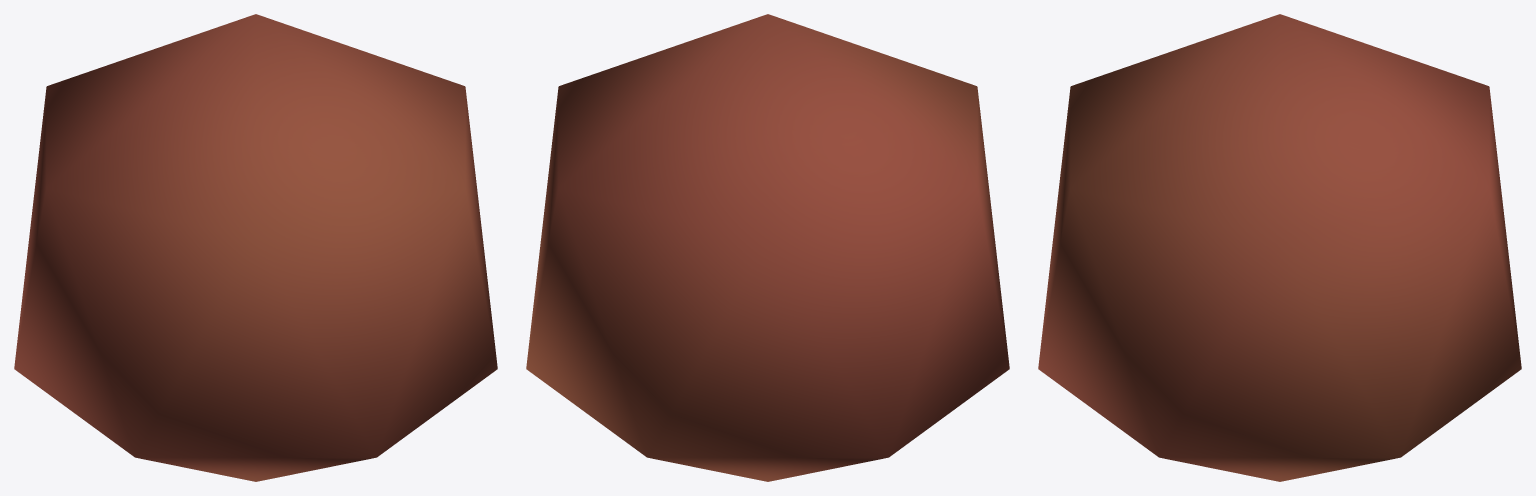
3 views of the same model, side by side, from view 1: azimuth 30°, elevation 25°; view 2: azimuth 150°, elevation 25°; view 3: azimuth 270°, elevation 25° (orthographic).
Parts seen in each view (by area): view 1: transp.051; view 2: transp.051; view 3: transp.051.
Boxes of the visible parts, left/top/right/bottom form: transp.051: left=14, top=14, right=497, bottom=481; transp.051: left=526, top=14, right=1009, bottom=481; transp.051: left=1038, top=14, right=1521, bottom=481.
Bounding box in the file's own units: 0.4683 × 0.5 × 0.4683.
